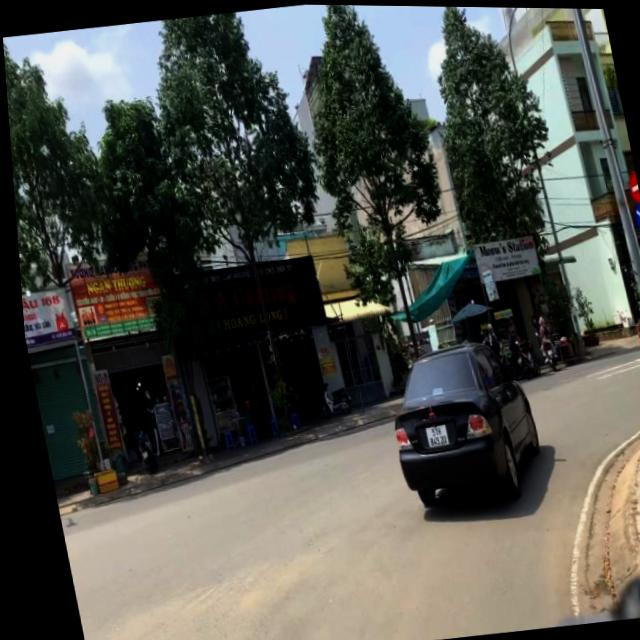Cam di nguoc chieu: (621, 168, 638, 200)
Vong chuong ngai vat sang phai: (628, 199, 640, 232)
